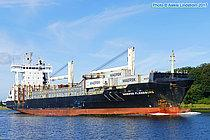Ship: (2, 59, 198, 121)
